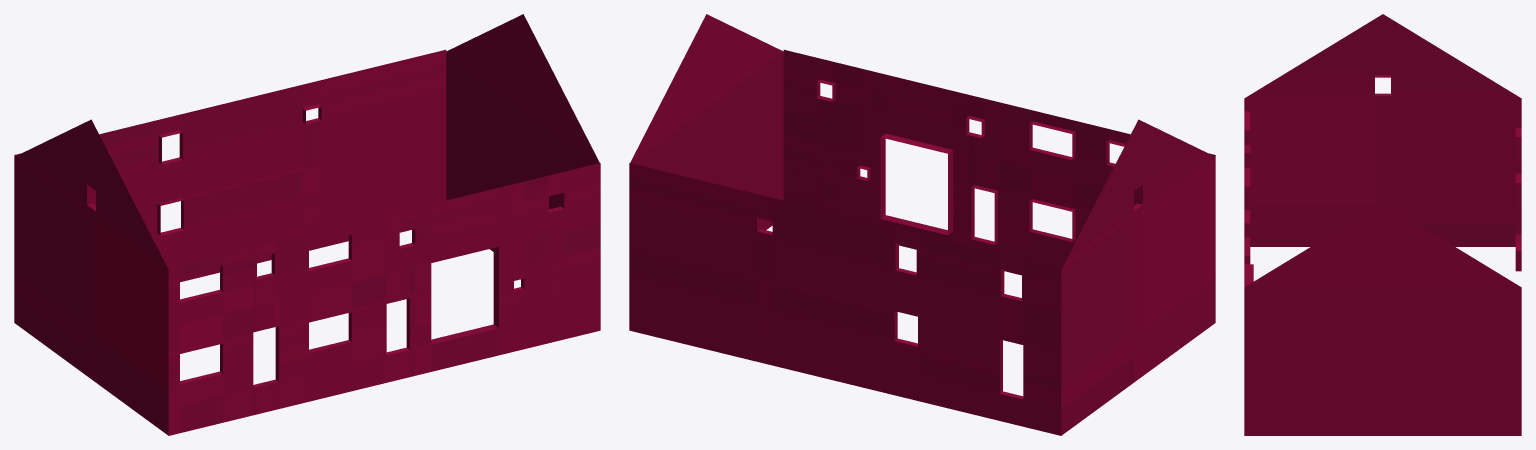
File: SM_Bld_013_Masonry.glb
3 views of the same model, side by side, from view 1: azimuth 30°, elevation 25°; view 2: azimuth 150°, elevation 25°; view 3: azimuth 270°, elevation 25° (orthographic). The views are drawn at different scales.
Visible parts, largest first — view 1: SM_Bld_013_Masonry; view 2: SM_Bld_013_Masonry; view 3: SM_Bld_013_Masonry.
Part boxes in pixels (x1,y1,x2,y2): SM_Bld_013_Masonry: (14,14,600,435); SM_Bld_013_Masonry: (629,14,1215,435); SM_Bld_013_Masonry: (1244,14,1521,435).
Bounding box in the file's own units: 16.63 × 9.56 × 10.31.
